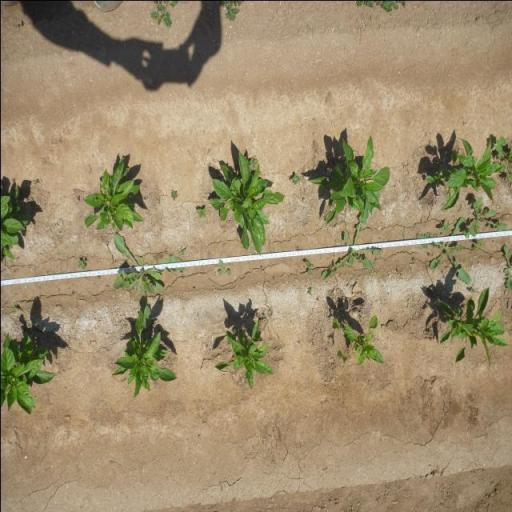plant: (205, 147, 287, 256), (308, 134, 385, 214), (108, 322, 180, 400), (434, 293, 508, 368), (0, 329, 61, 418), (423, 133, 495, 206), (212, 319, 274, 392), (82, 163, 146, 233), (329, 309, 386, 366), (0, 185, 32, 265)
weed: (111, 232, 186, 318), (322, 219, 383, 281), (416, 216, 470, 286), (469, 197, 508, 236), (496, 130, 512, 182), (501, 244, 512, 290), (217, 259, 232, 276), (302, 256, 315, 275), (288, 171, 302, 186), (194, 204, 206, 219), (439, 219, 451, 232), (76, 256, 86, 270), (474, 240, 485, 250), (248, 157, 257, 169), (462, 226, 470, 239), (170, 189, 178, 201), (177, 246, 186, 256), (305, 286, 313, 296), (468, 286, 475, 293), (426, 329, 432, 337), (12, 305, 18, 312), (34, 178, 38, 186)
